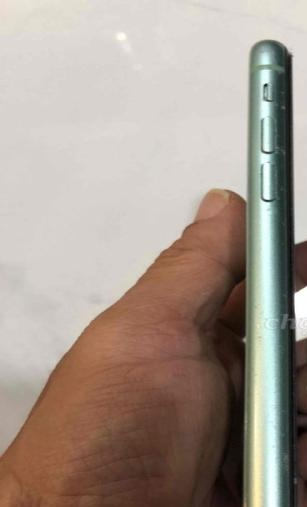scratch: (259, 54, 290, 261), (247, 401, 292, 507), (248, 301, 275, 366), (279, 292, 296, 311)
